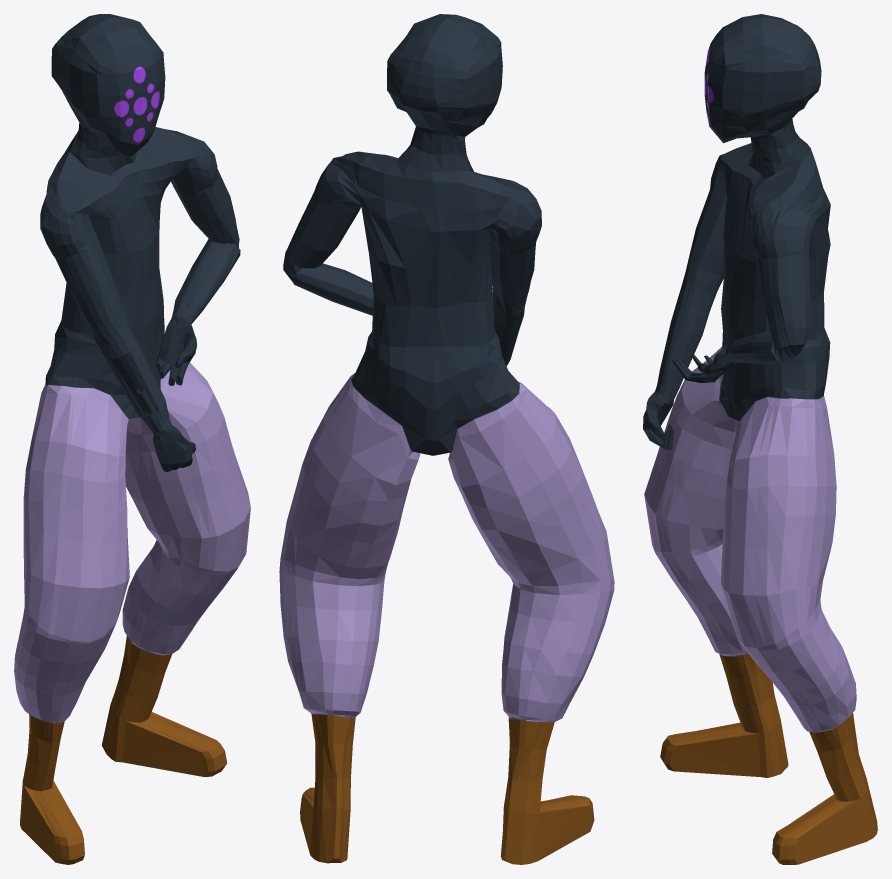
Rendered from Oracle_WR_000015.obj.
3 views of the same model, side by side, from view 1: azimuth 30°, elevation 25°; view 2: azimuth 150°, elevation 25°; view 3: azimuth 270°, elevation 25° (orthographic). The views are drawn at different scales.
Visible parts, largest first — view 1: Cube; view 2: Cube; view 3: Cube.
Part boxes in pixels (box(x1,y1,x2,y2)): Cube: box(14, 14, 250, 864); Cube: box(279, 14, 614, 864); Cube: box(643, 14, 877, 864).
Bounding box in the file's own units: 1.33 × 3.78 × 1.02.
